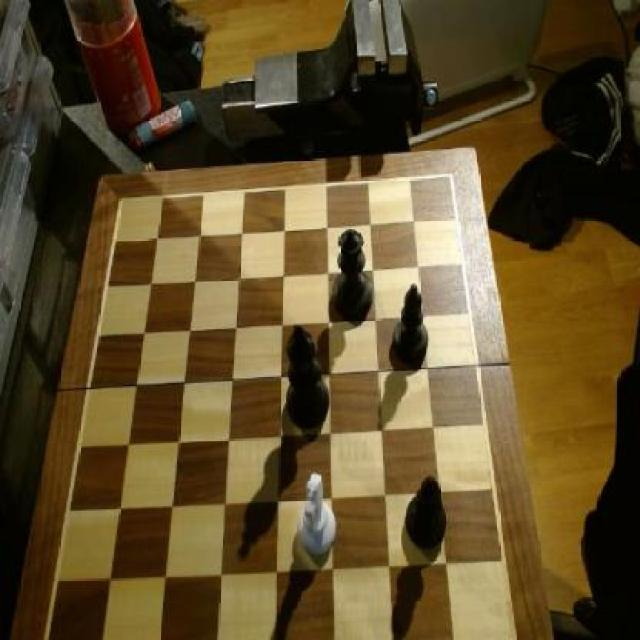bishop: (404, 476, 446, 560), (394, 282, 431, 368)
black-bishop: (285, 320, 332, 433)
black-pawn: (332, 226, 377, 325)
white-king: (297, 469, 340, 560)
